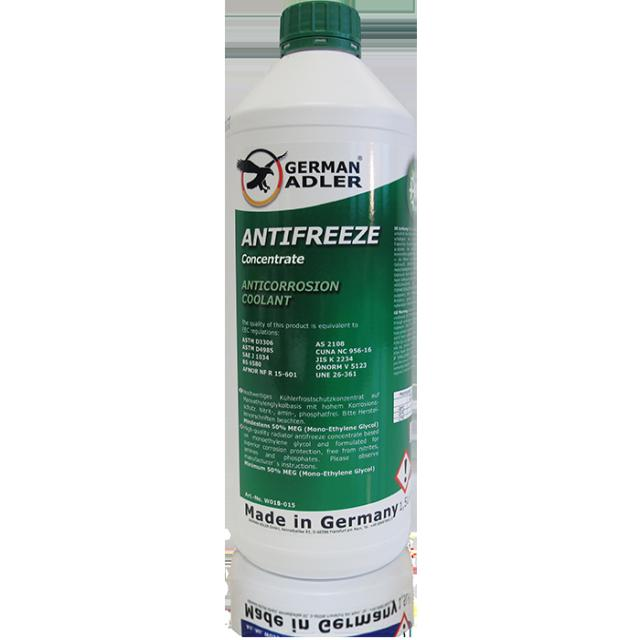coolant: (218, 0, 436, 590)
